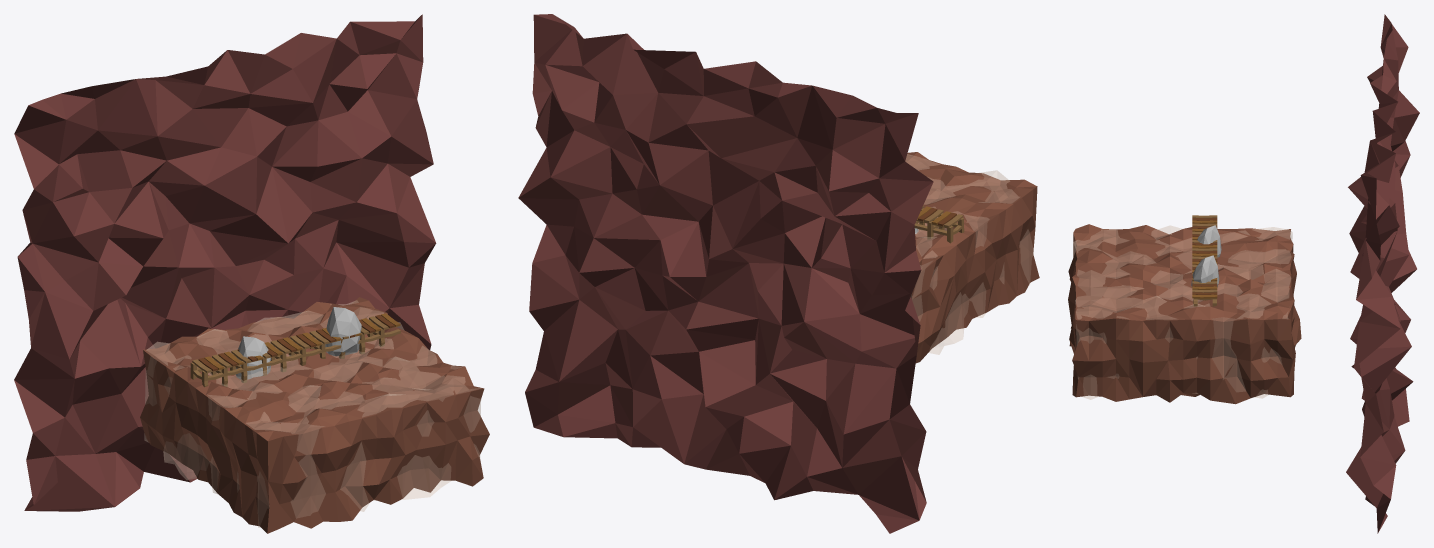
The model's file is Tile4.fbx.
3 views of the same model, side by side, from view 1: azimuth 30°, elevation 25°; view 2: azimuth 150°, elevation 25°; view 3: azimuth 270°, elevation 25° (orthographic). The views are drawn at different scales.
Visible parts, largest first — view 1: Plane.011, Plane.010, Plane.009, Icosphere.003, Icosphere.012, Cube.039, Cube.112, Cube.040, Cube.048; view 2: Plane.011, Plane.010, Plane.009, Cube.039; view 3: Plane.010, Plane.011, Plane.009, Icosphere.003.
Boxes of the visible parts, <box> form: Plane.011: <box>14,14,436,511</box>; Plane.010: <box>140,297,489,533</box>; Plane.009: <box>144,300,480,527</box>; Icosphere.003: <box>325,307,361,356</box>; Icosphere.012: <box>235,336,271,379</box>; Cube.039: <box>190,356,224,387</box>; Cube.112: <box>270,337,302,372</box>; Cube.040: <box>210,351,243,386</box>; Cube.048: <box>367,313,400,347</box>; Plane.011: <box>518,14,933,533</box>; Plane.010: <box>905,152,1039,363</box>; Plane.009: <box>906,154,1033,354</box>; Cube.039: <box>931,211,964,243</box>; Plane.010: <box>1068,224,1301,404</box>; Plane.011: <box>1346,14,1419,533</box>; Plane.009: <box>1073,225,1292,399</box>; Icosphere.003: <box>1191,255,1219,287</box>.
Bounding box in the file's own units: 5169 × 5216 × 4586.
